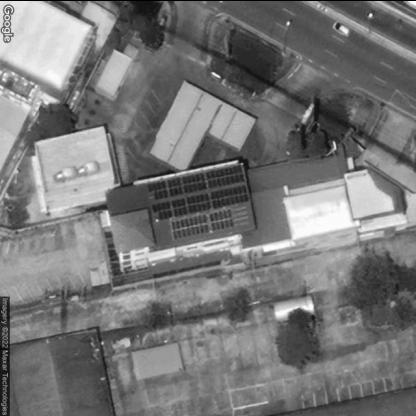solar-pv-panel: (145, 165, 251, 220), (170, 208, 235, 238)
